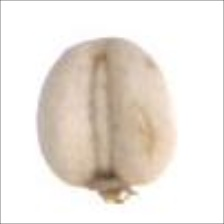L5: (84, 50, 119, 169), (81, 170, 143, 206), (74, 35, 133, 48)
L6: (34, 34, 179, 209)
